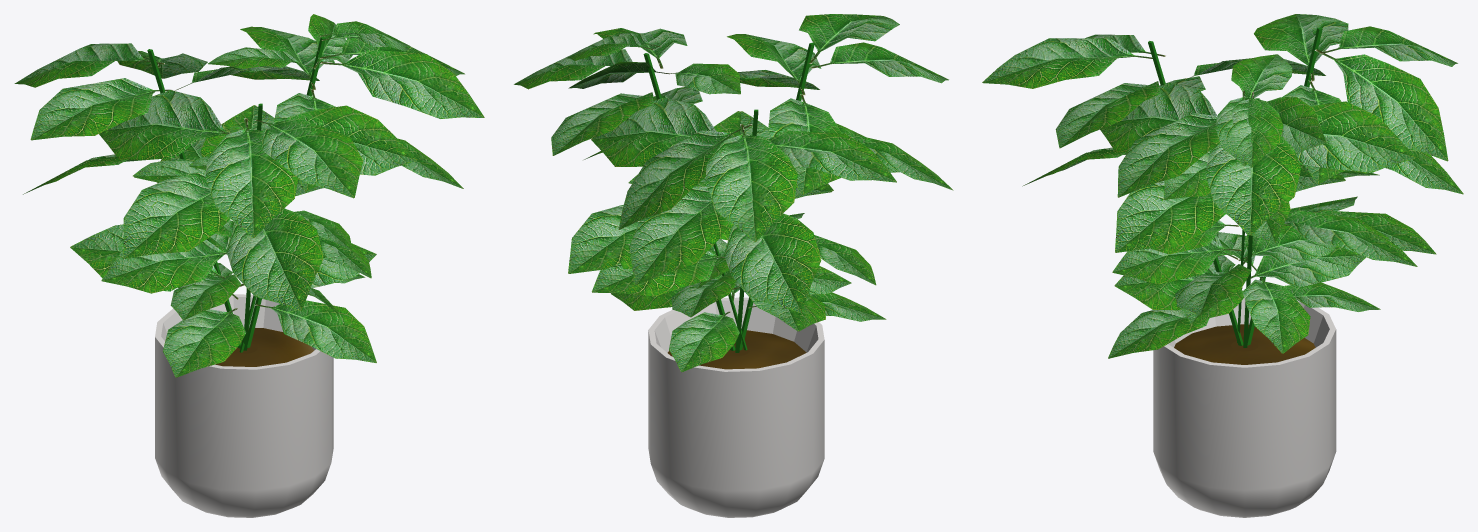
The model's file is plant1.fbx.
3 views of the same model, side by side, from view 1: azimuth 30°, elevation 25°; view 2: azimuth 150°, elevation 25°; view 3: azimuth 270°, elevation 25° (orthographic). The views are drawn at different scales.
Parts seen in each view (by area): view 1: MSH_plant1; view 2: MSH_plant1; view 3: MSH_plant1.
Boxes of the visible parts, bbox=[...] form: MSH_plant1: bbox=[14, 14, 484, 517]; MSH_plant1: bbox=[514, 14, 953, 517]; MSH_plant1: bbox=[982, 14, 1463, 517].
Size of the model in its own units: 4.46 by 4.51 by 4.46.
